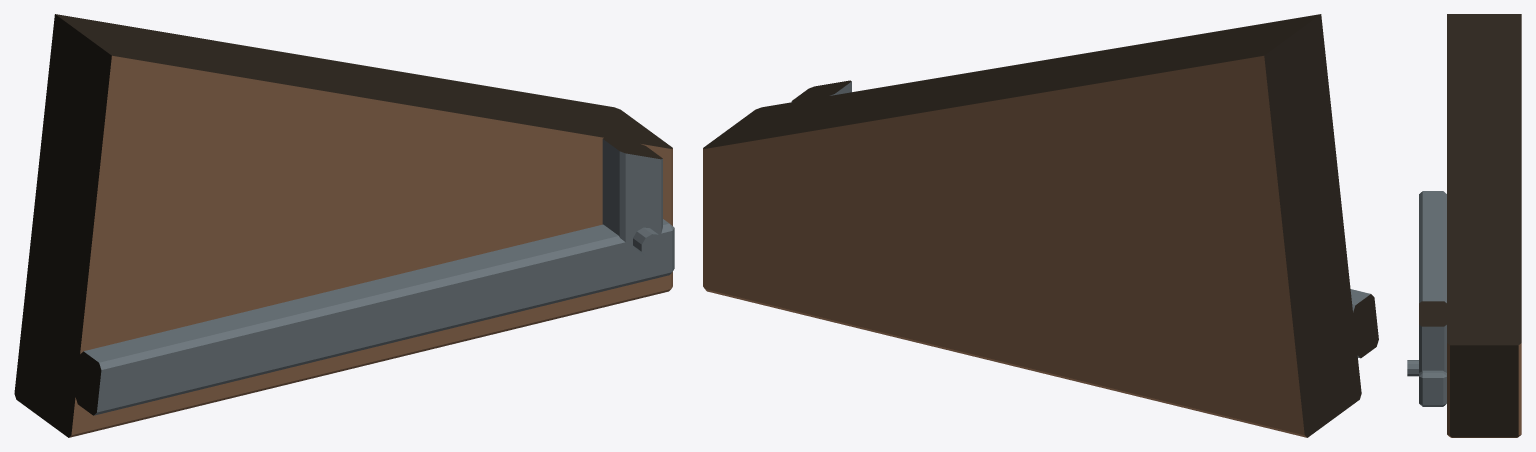
The model's file is SM_DoorShard_02_47.fbx.
The picture shows the model from 3 angles, left to right: view 1: azimuth 30°, elevation 25°; view 2: azimuth 150°, elevation 25°; view 3: azimuth 270°, elevation 25°; orthographic projection. The views are drawn at different scales.
Parts seen in each view (by area): view 1: SM_DoorShard_02_47; view 2: SM_DoorShard_02_47; view 3: SM_DoorShard_02_47.
Boxes of the visible parts, x1=… form: SM_DoorShard_02_47: x1=14, y1=14, x2=674, y2=437; SM_DoorShard_02_47: x1=703, y1=14, x2=1378, y2=437; SM_DoorShard_02_47: x1=1407, y1=14, x2=1521, y2=437.
Size of the model in its own units: 97.99 by 24.5 by 57.93.
